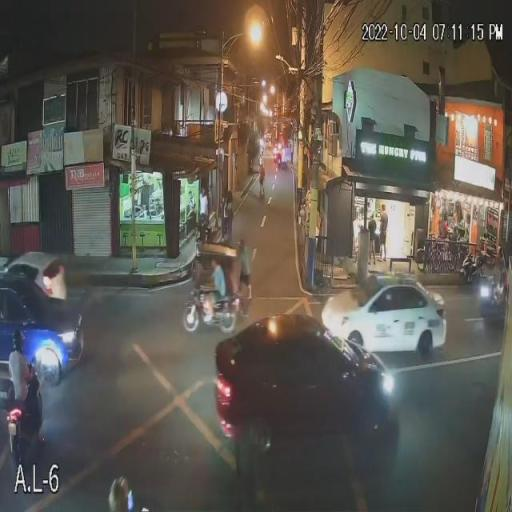helmet: (104, 470, 140, 504)
